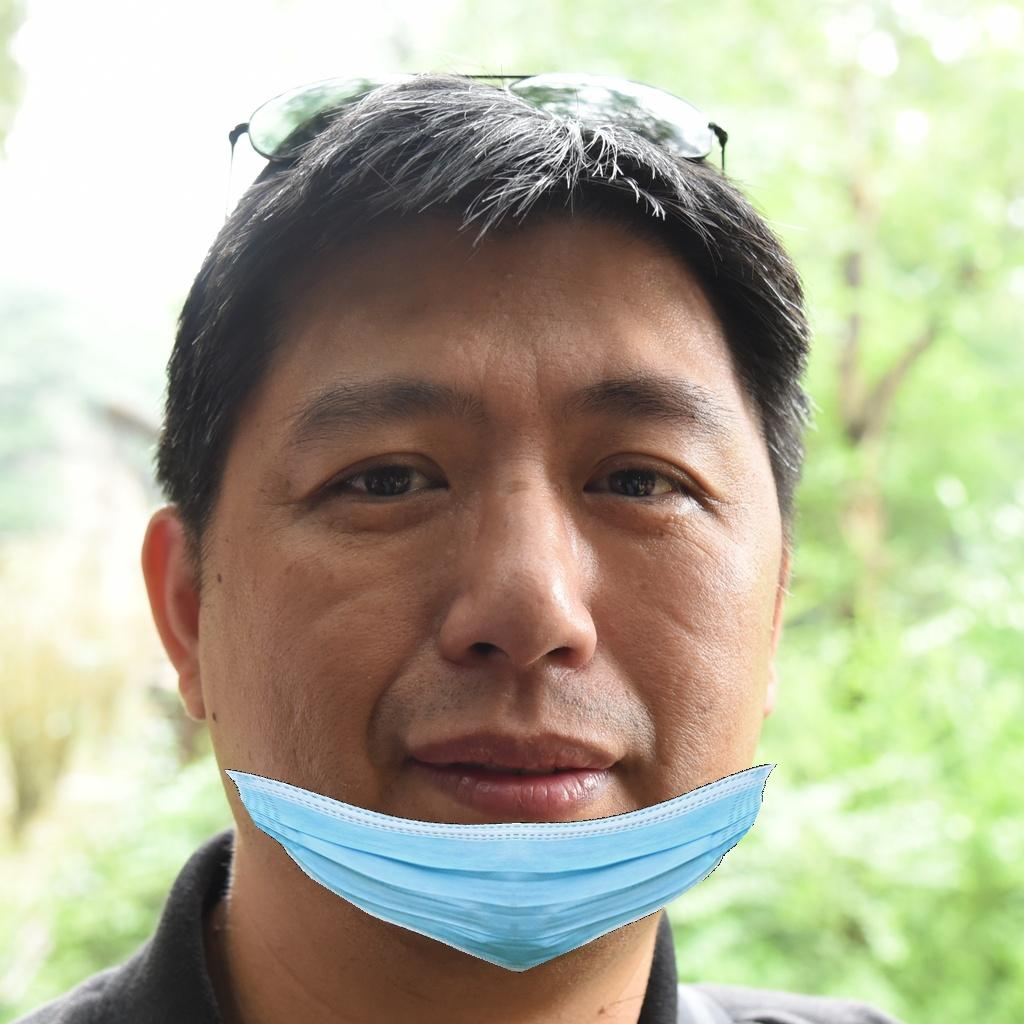Máscara Incorreta: (187, 319, 798, 948)
